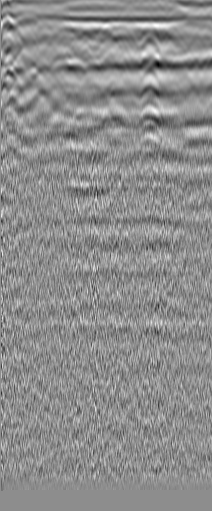오수: (13, 30, 45, 60)
우수: (161, 28, 181, 48)
